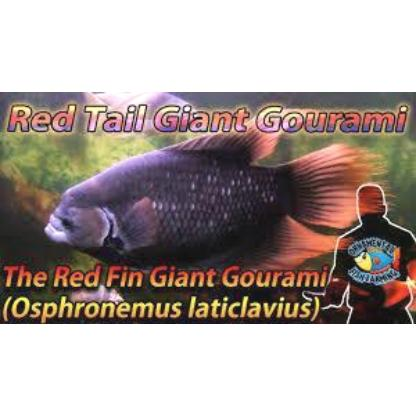gurame: (50, 138, 328, 264)
